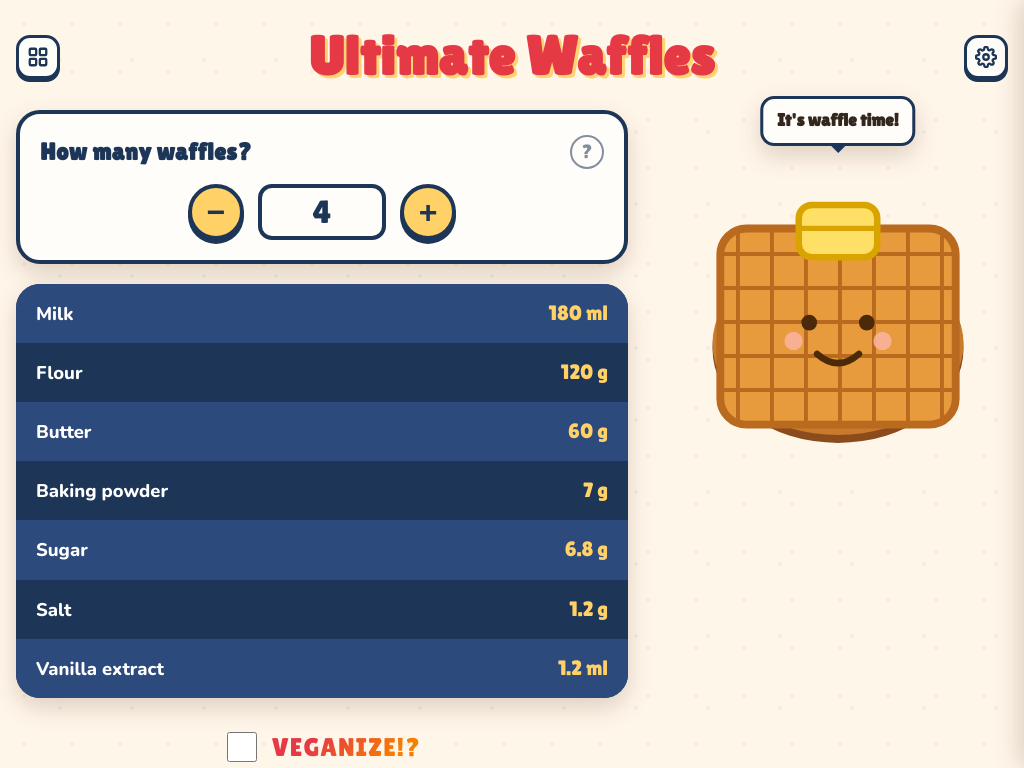
Test: AppShell › waffle recipe (default) › decrements the count with the minus control
Click the button named "decrease count" at (216,212), box [188,184,244,240]
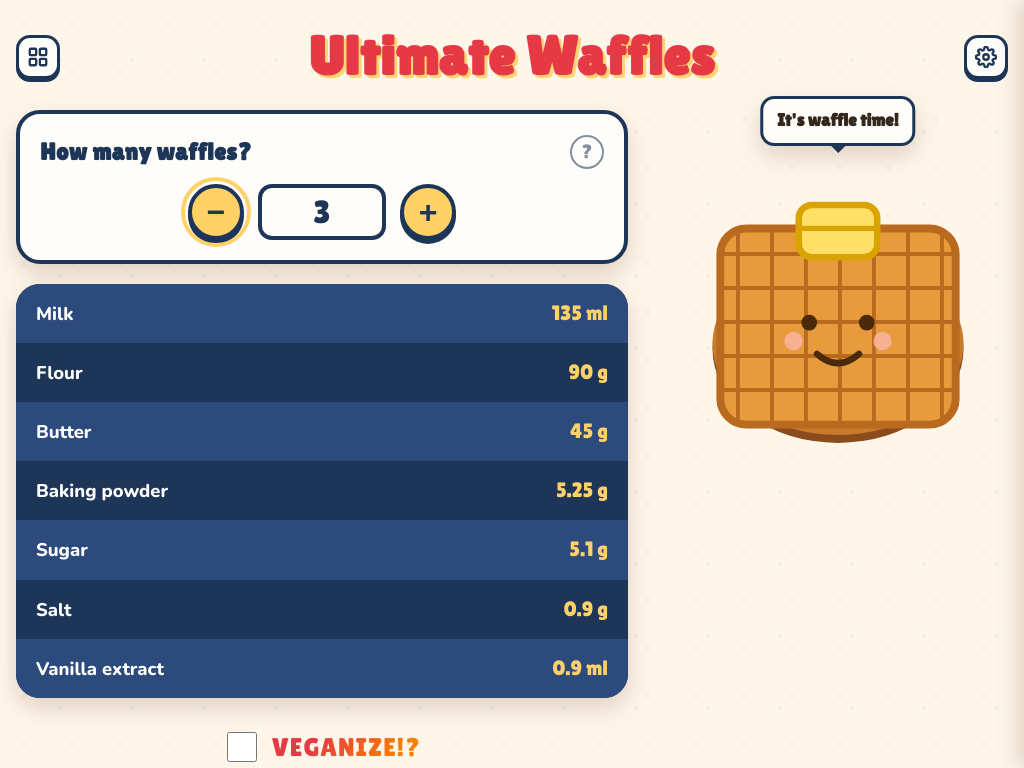
Expected: the number field named "number of waffles" holds "3", [258,184,386,240]
Expected: the text "135 ml" is shown, [552,298,608,329]
